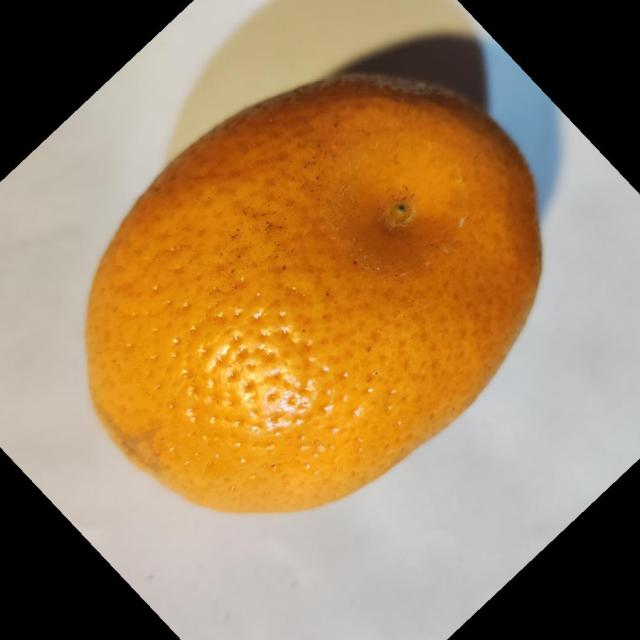fresh orange: (84, 72, 544, 514)
